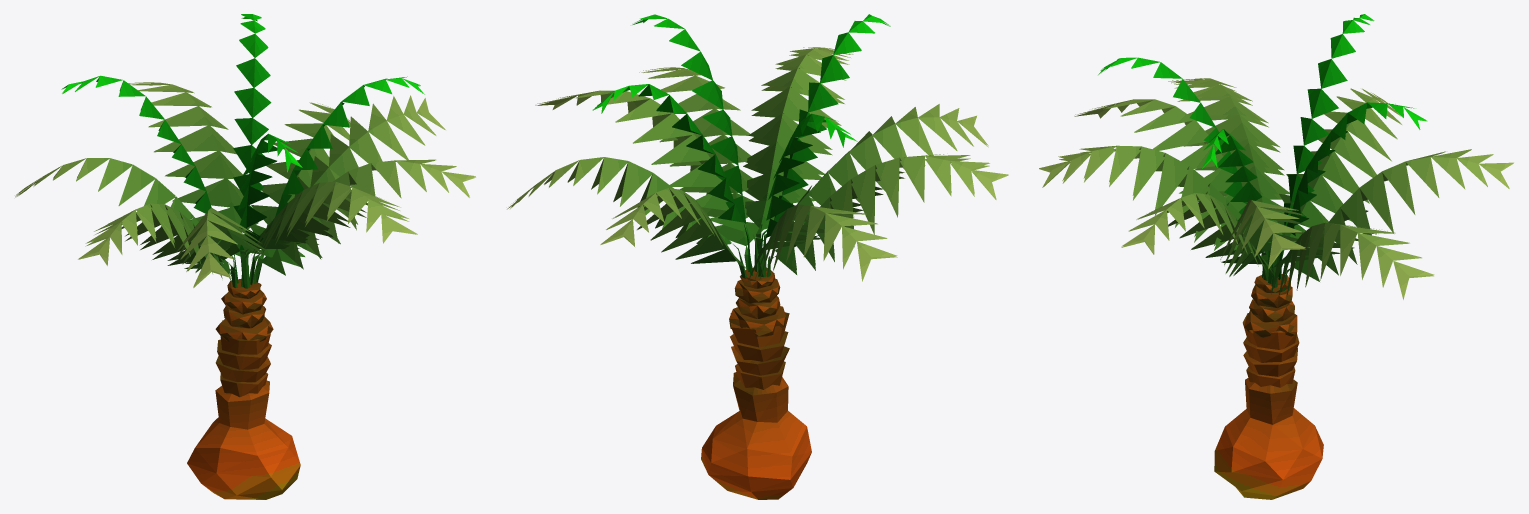
Rendered from exoticPalmBaby.glb.
The picture shows the model from 3 angles, left to right: view 1: azimuth 30°, elevation 25°; view 2: azimuth 150°, elevation 25°; view 3: azimuth 270°, elevation 25°; orthographic projection. The views are drawn at different scales.
Parts seen in each view (by area): view 1: ExoticPalmBabyLeaves.5, ExoticPalmBabyYoungLeave.4, ExoticPalmBabyGroundBase.3, ExoticPalmBabyBasicBark.1, Barkyoung.005.2; view 2: ExoticPalmBabyLeaves.5, ExoticPalmBabyYoungLeave.4, ExoticPalmBabyGroundBase.3, ExoticPalmBabyBasicBark.1, Barkyoung.005.2; view 3: ExoticPalmBabyLeaves.5, ExoticPalmBabyGroundBase.3, ExoticPalmBabyYoungLeave.4, ExoticPalmBabyBasicBark.1, Barkyoung.005.2.
Part boxes in pixels (box(x1,y1,x2,y2)): ExoticPalmBabyLeaves.5: box(15, 82, 475, 288); ExoticPalmBabyYoungLeave.4: box(61, 14, 424, 283); ExoticPalmBabyGroundBase.3: box(187, 380, 300, 499); ExoticPalmBabyBasicBark.1: box(215, 320, 271, 397); Barkyoung.005.2: box(215, 279, 273, 341); ExoticPalmBabyLeaves.5: box(507, 47, 1008, 281); ExoticPalmBabyYoungLeave.4: box(592, 14, 890, 276); ExoticPalmBabyGroundBase.3: box(701, 372, 811, 499); ExoticPalmBabyBasicBark.1: box(730, 312, 789, 389); Barkyoung.005.2: box(729, 267, 785, 336); ExoticPalmBabyLeaves.5: box(1039, 78, 1513, 299); ExoticPalmBabyGroundBase.3: box(1214, 378, 1323, 499); ExoticPalmBabyYoungLeave.4: box(1098, 14, 1427, 279); ExoticPalmBabyBasicBark.1: box(1242, 313, 1299, 387); Barkyoung.005.2: box(1244, 274, 1297, 337).
Size of the model in its own units: 515 by 513 by 528.
Materials: 5 (5 with a texture image).
